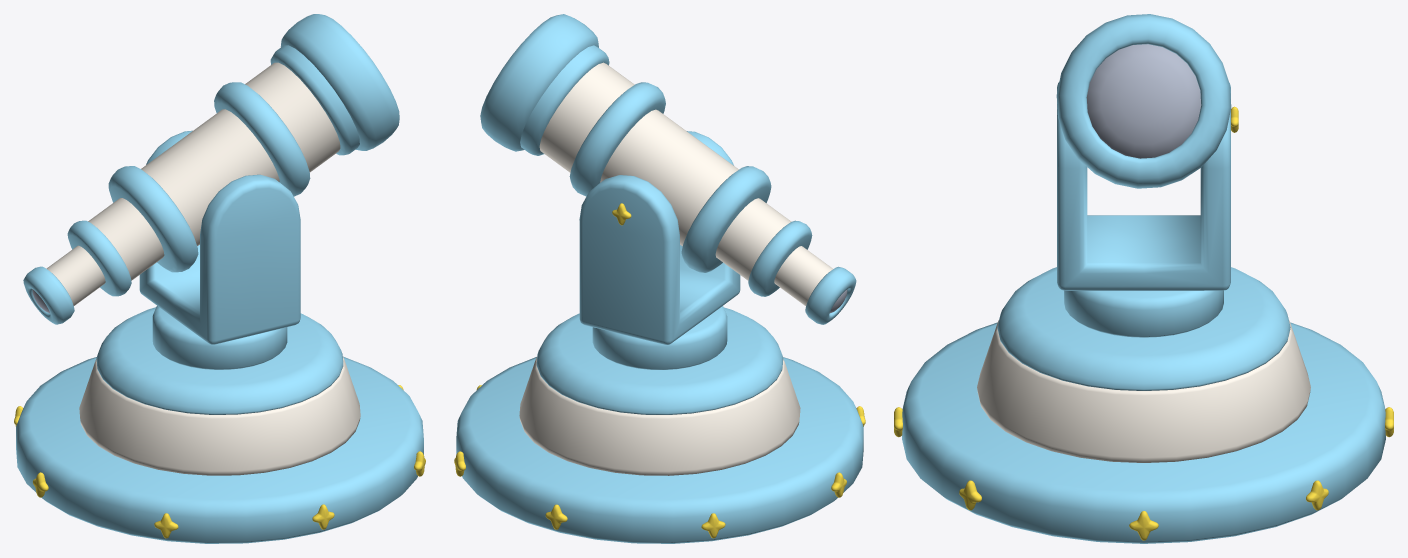
File: Telescope.fbx
3 views of the same model, side by side, from view 1: azimuth 30°, elevation 25°; view 2: azimuth 150°, elevation 25°; view 3: azimuth 270°, elevation 25° (orthographic). The views are drawn at different scales.
Parts seen in each view (by area): view 1: TelescopeBase, Telescope, TelescopeStand; view 2: TelescopeBase, Telescope, TelescopeStand; view 3: TelescopeBase, Telescope, TelescopeStand.
Boxes of the visible parts, box(x1,y1,x2,y2) form: TelescopeBase: box(14, 306, 425, 543); Telescope: box(23, 14, 399, 324); TelescopeStand: box(139, 130, 300, 344); TelescopeBase: box(454, 306, 865, 543); Telescope: box(480, 14, 856, 324); TelescopeStand: box(579, 131, 740, 344); TelescopeBase: box(894, 267, 1393, 543); Telescope: box(1056, 14, 1231, 188); TelescopeStand: box(1057, 82, 1238, 290).
Bounding box in the file's own units: 2.52 × 2.68 × 2.48.
